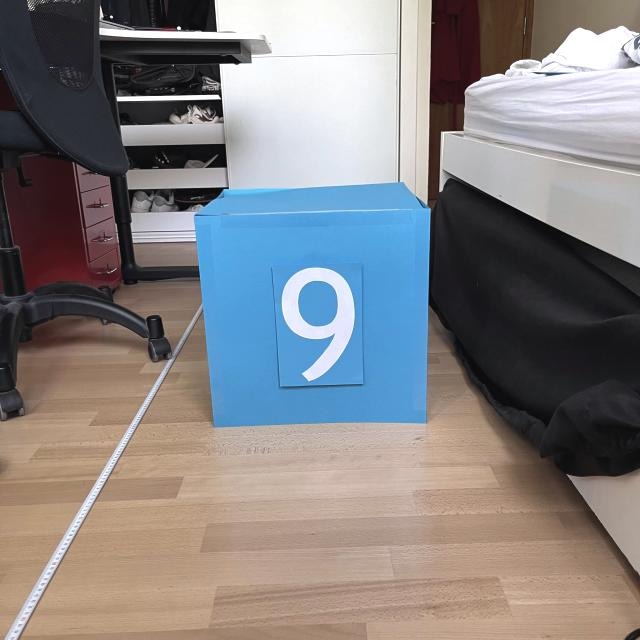box: (189, 178, 434, 429)
